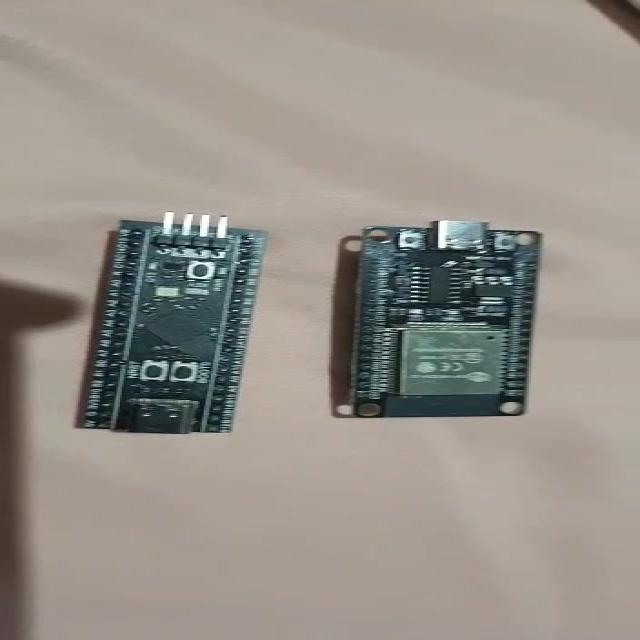ESP32: (351, 222, 541, 417)
STM32: (79, 214, 264, 435)
